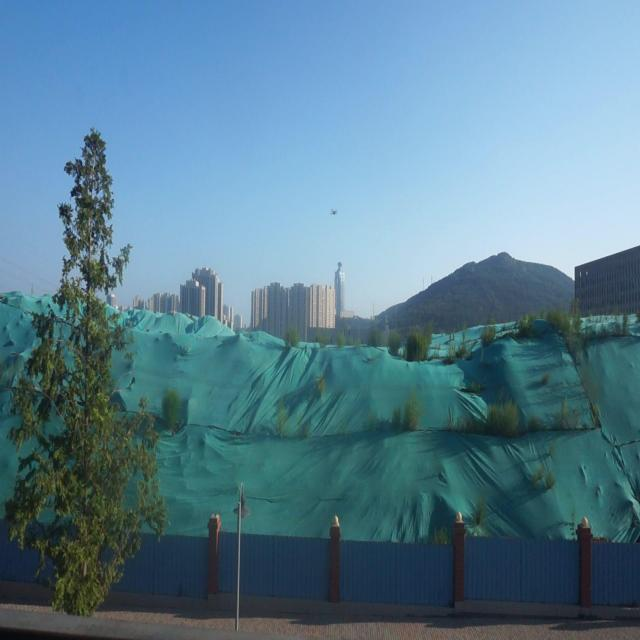UAV: (330, 208, 338, 214)
